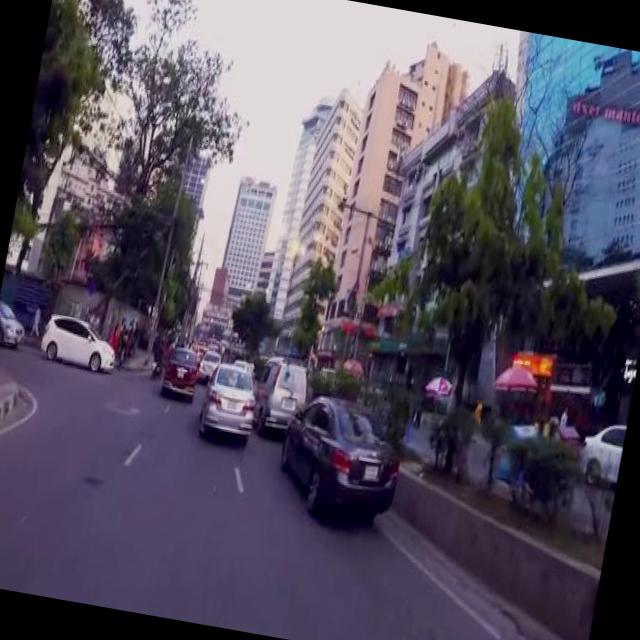car: (269, 386, 408, 522), (194, 356, 262, 436), (38, 306, 120, 370), (574, 411, 626, 483), (160, 340, 202, 392), (0, 297, 31, 348), (196, 342, 223, 375)
truck: (246, 348, 312, 429)
